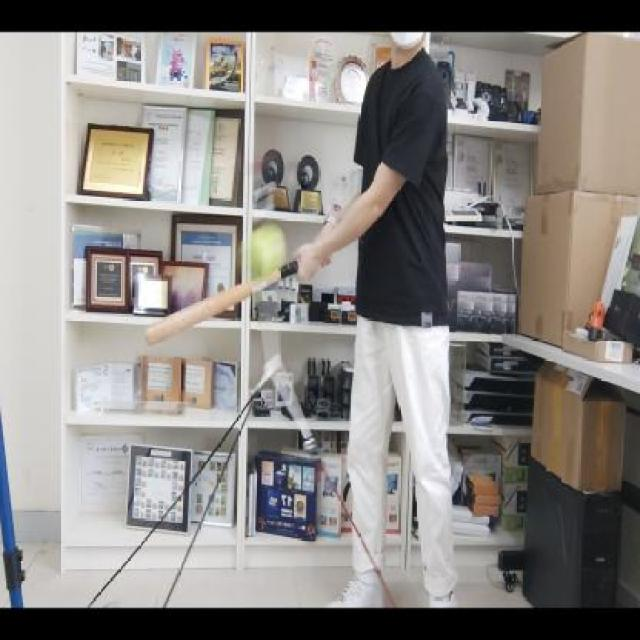baseball: (234, 222, 291, 288)
